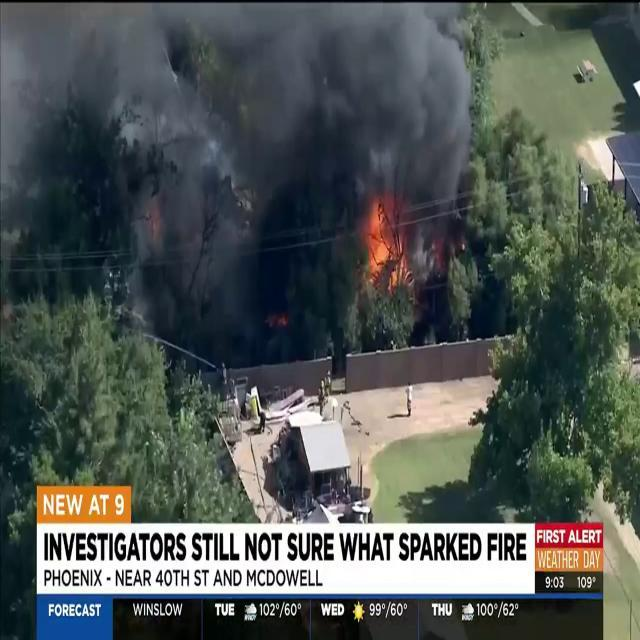Fire: (358, 187, 406, 294)
Smoke: (0, 1, 482, 300)
